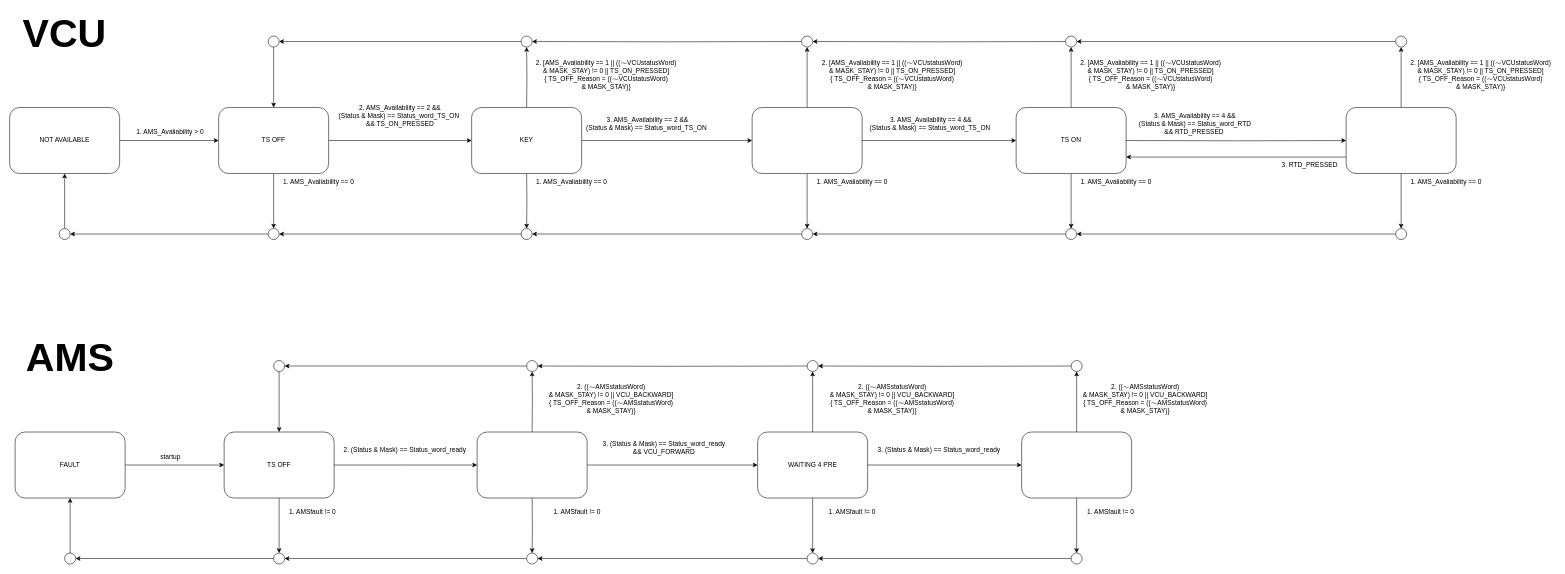
Some shapes in this 1565 by 574 pixel diagram are drawn without their labels. The centre of each missing label's shape, as x and y in pixels:
PRE: the point at 807,140
READY 4 POWER: the point at 1076,464
READY 4 PRE: the point at 532,464
RTD: the point at 1401,140
